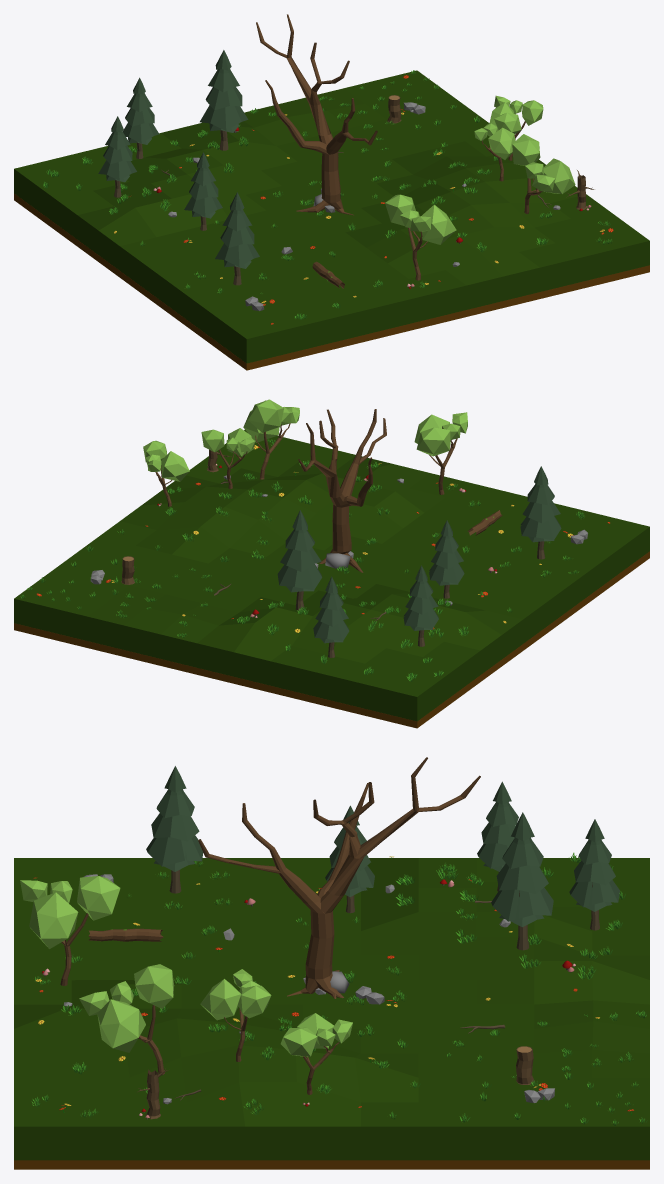
File: forest_land.glb
3 views of the same model, one above another, from view 1: azimuth 30°, elevation 25°; view 2: azimuth 150°, elevation 25°; view 3: azimuth 270°, elevation 25° (orthographic). The views are drawn at different scales.
Visible parts, largest first — view 1: Plane.003, Icosphere.002, Circle, Cylinder.001, Cylinder.080, Cylinder.004, Cylinder.079, Cylinder.002, Cylinder.003, Cylinder.081, Cylinder.005, Cylinder.008; view 2: Plane.003, Icosphere.002, Circle, Cylinder.001, Cylinder.079, Cylinder.080, Cylinder.004, Cylinder.002, Cylinder.003, Cylinder.081, Cylinder.008, Cylinder.005; view 3: Plane.003, Icosphere.002, Circle, Cylinder.080, Cylinder.004, Cylinder.001, Cylinder.079, Cylinder.002, Cylinder.005, Cylinder.008, Cylinder.003, Cylinder.081 (+4 smaller).
Part boxes in pixels (bbox=[...]): Plane.003: bbox=[14, 70, 649, 370]; Icosphere.002: bbox=[256, 14, 377, 215]; Circle: bbox=[43, 70, 612, 319]; Cylinder.001: bbox=[200, 50, 248, 150]; Cylinder.080: bbox=[385, 194, 456, 280]; Cylinder.004: bbox=[512, 134, 575, 213]; Cylinder.079: bbox=[215, 192, 259, 285]; Cylinder.002: bbox=[123, 77, 159, 158]; Cylinder.003: bbox=[98, 116, 136, 197]; Cylinder.081: bbox=[184, 152, 222, 230]; Cylinder.005: bbox=[474, 113, 521, 181]; Cylinder.008: bbox=[489, 95, 543, 160]; Plane.003: bbox=[14, 430, 649, 728]; Icosphere.002: bbox=[298, 409, 386, 572]; Circle: bbox=[20, 439, 584, 681]; Cylinder.001: bbox=[277, 510, 322, 610]; Cylinder.079: bbox=[520, 466, 561, 559]; Cylinder.080: bbox=[414, 412, 467, 494]; Cylinder.004: bbox=[243, 399, 299, 479]; Cylinder.002: bbox=[313, 576, 349, 657]; Cylinder.003: bbox=[403, 565, 438, 646]; Cylinder.081: bbox=[429, 520, 464, 598]; Cylinder.008: bbox=[143, 440, 189, 506]; Cylinder.005: bbox=[201, 428, 255, 488]; Plane.003: bbox=[14, 858, 649, 1169]; Icosphere.002: bbox=[198, 757, 480, 998]; Circle: bbox=[31, 852, 647, 1125]; Cylinder.080: bbox=[20, 876, 120, 985]; Cylinder.004: bbox=[79, 964, 174, 1075]; Cylinder.001: bbox=[491, 812, 553, 950]; Cylinder.079: bbox=[146, 766, 203, 893]; Cylinder.002: bbox=[569, 819, 619, 930]; Cylinder.005: bbox=[200, 969, 271, 1061]; Cylinder.008: bbox=[280, 1013, 352, 1094]; Cylinder.003: bbox=[477, 781, 518, 891]; Cylinder.081: bbox=[325, 805, 374, 913].
Bounding box in the file's own units: 24.86 × 11.72 × 24.86.
